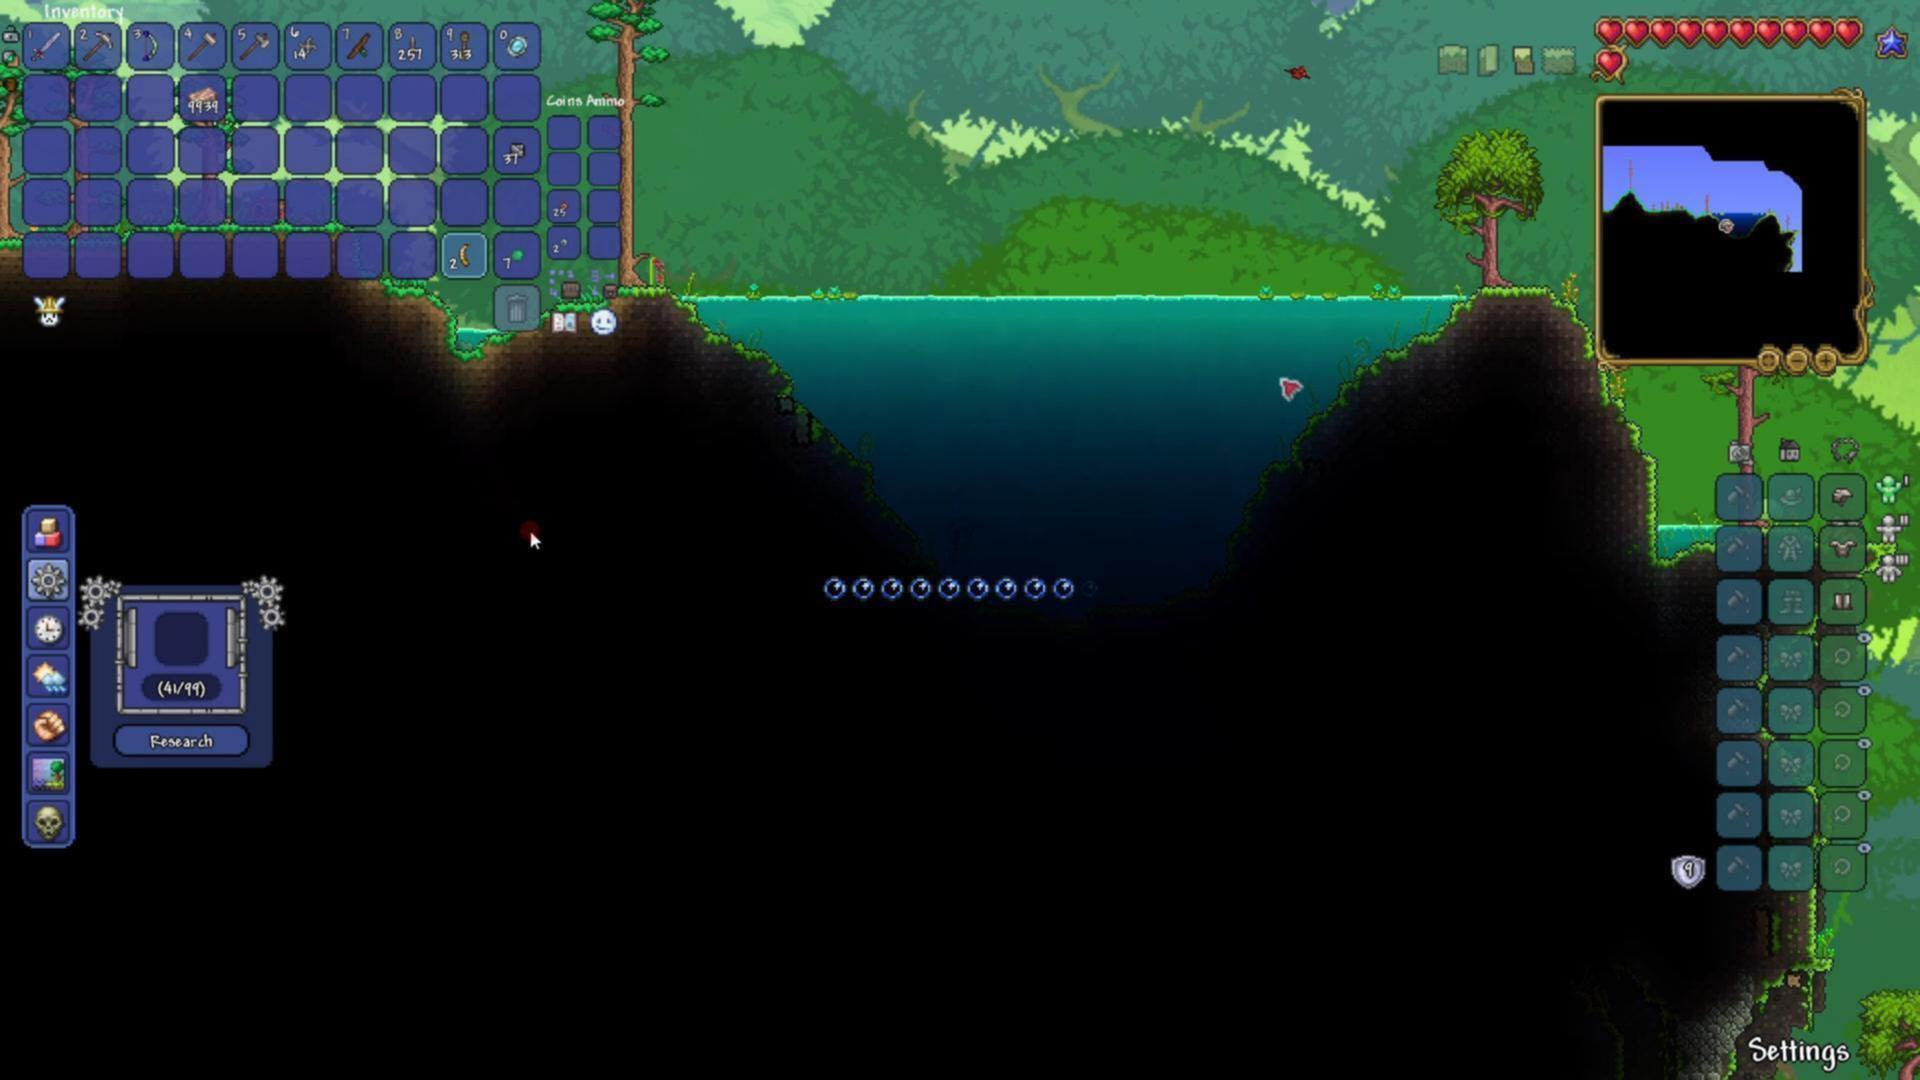axe: (235, 25, 278, 63)
bar: (182, 80, 222, 123)
bow: (137, 26, 164, 63)
breastplate: (1829, 538, 1857, 560)
gel: (487, 228, 550, 284)
helmet: (1832, 488, 1853, 509)
legs: (1830, 588, 1854, 613)
mirror: (501, 25, 534, 58)
pickaxe: (80, 26, 117, 65)
rope: (451, 26, 487, 63)
shuriken: (291, 30, 324, 67)
sword: (32, 26, 66, 66)
tree: (1420, 112, 1555, 311)
